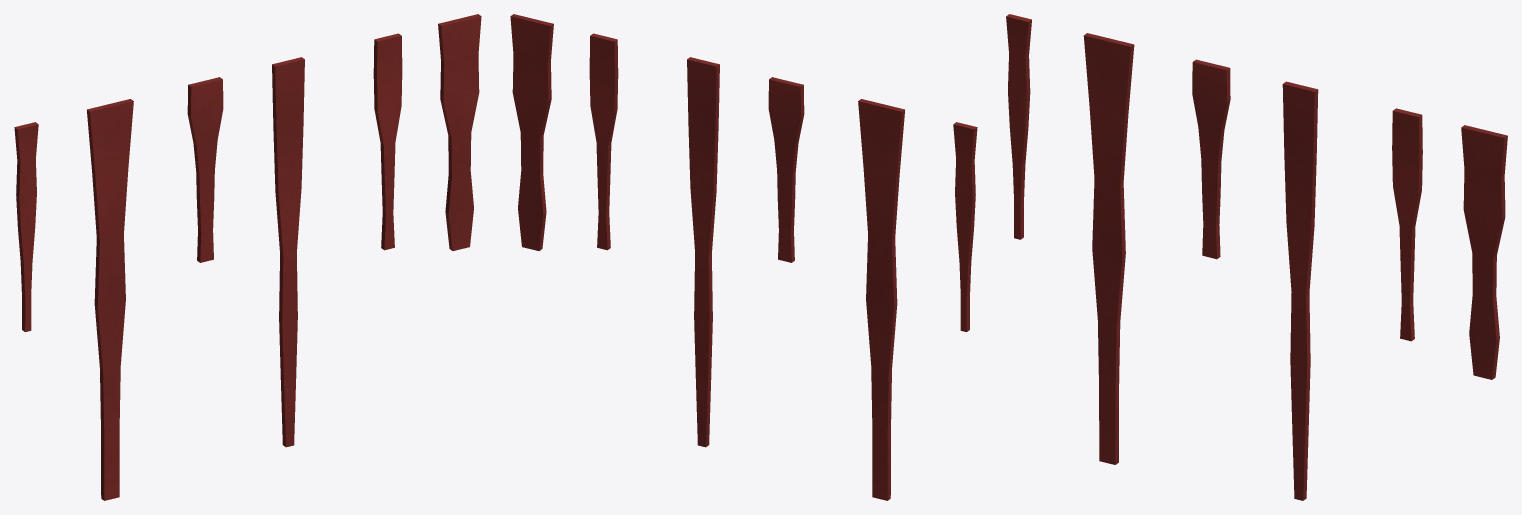
Rendered from gore_drips.glb.
The picture shows the model from 3 angles, left to right: view 1: azimuth 30°, elevation 25°; view 2: azimuth 150°, elevation 25°; view 3: azimuth 330°, elevation 25°; orthographic projection. The views are drawn at different scales.
Visible parts, largest first — view 1: NC_gore_drips; view 2: NC_gore_drips; view 3: NC_gore_drips.
Part boxes in pixels (box(x1,y1,x2,y2)): NC_gore_drips: box(14, 14, 481, 500); NC_gore_drips: box(510, 14, 977, 500); NC_gore_drips: box(1006, 14, 1507, 500).
Size of the model in its own units: 0.7505 by 0.607 by 0.009.
Materials: 1 (1 with a texture image).
